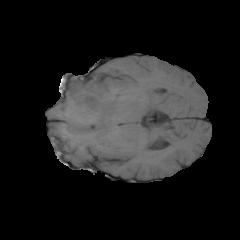glioma: (55, 73, 122, 130)
